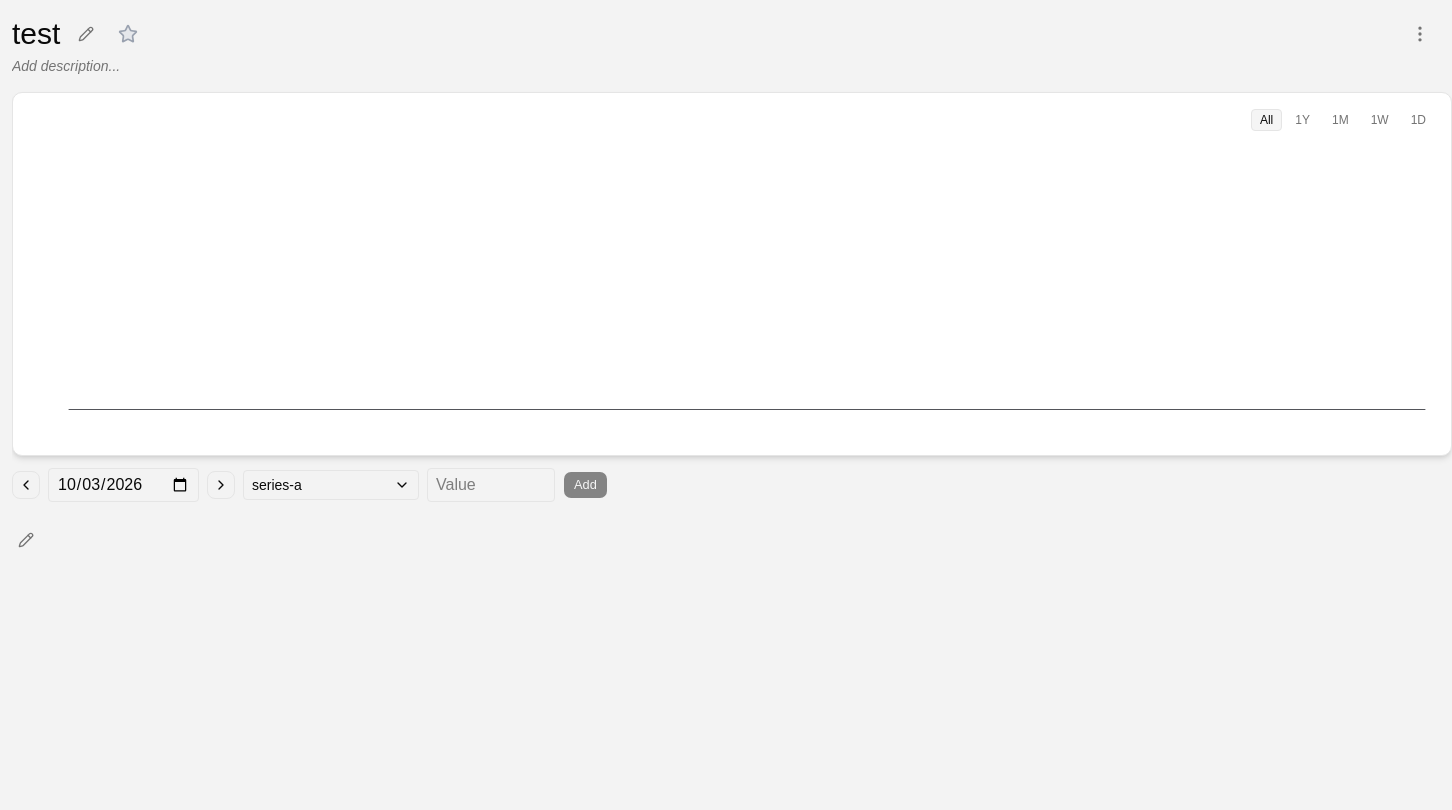
Test: TrackerDetailView › renames a series from the series settings panel
Click the button named "tracker menu" at (1420, 34), box [1404,18,1436,50]
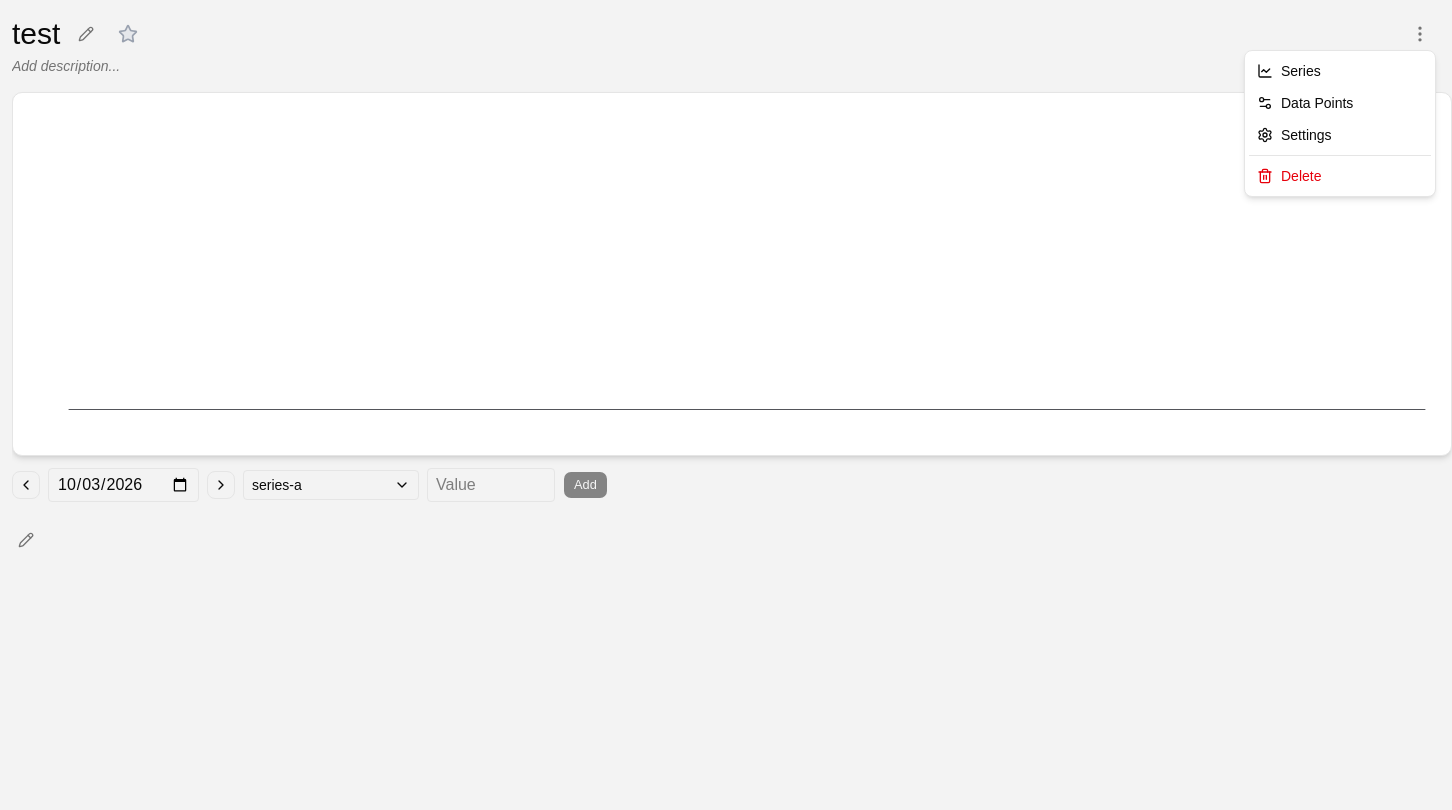
Click the menu item "Series" at (1289, 71), box [1257,63,1321,79]
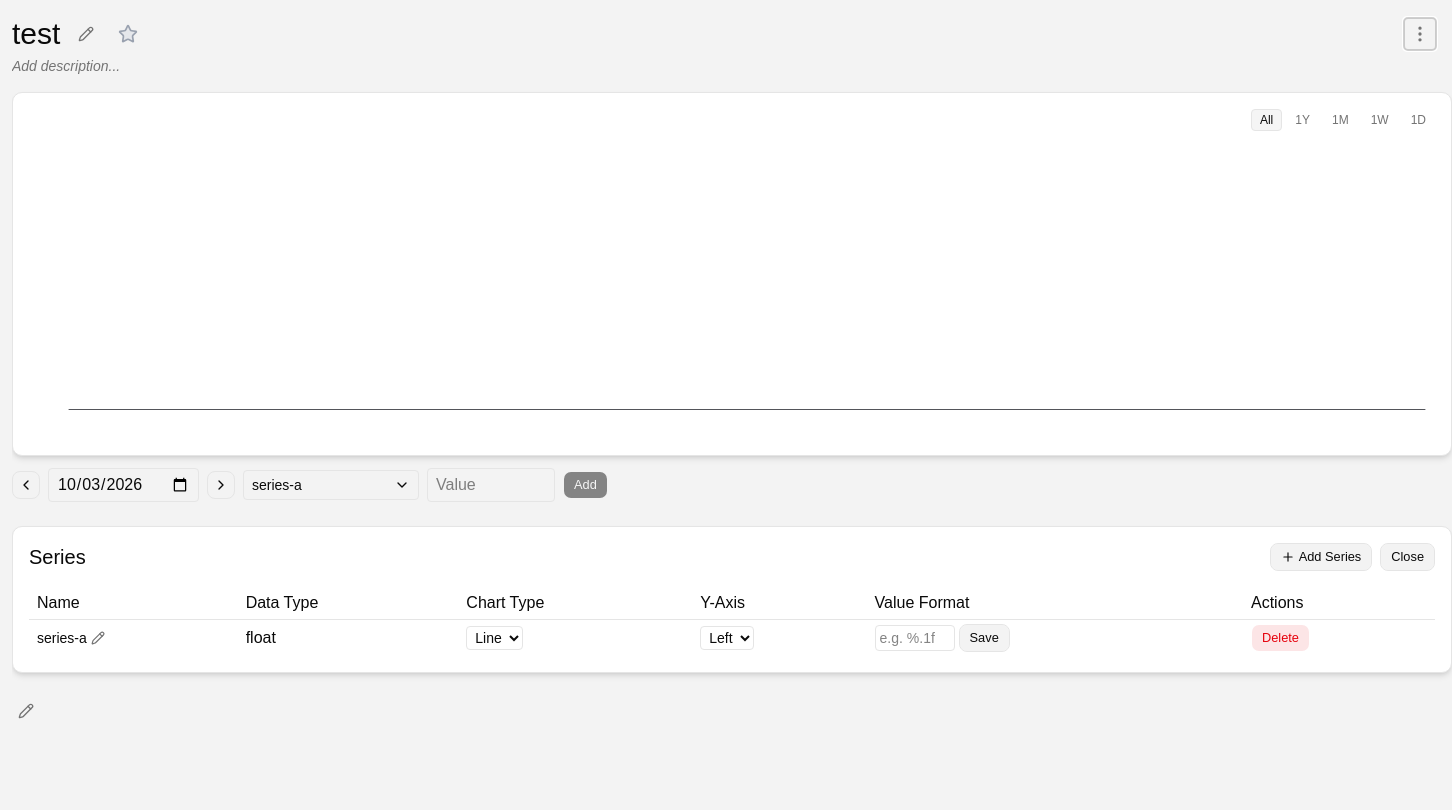
Click the button named "rename series series-a" at (98, 638), box [91,630,105,644]
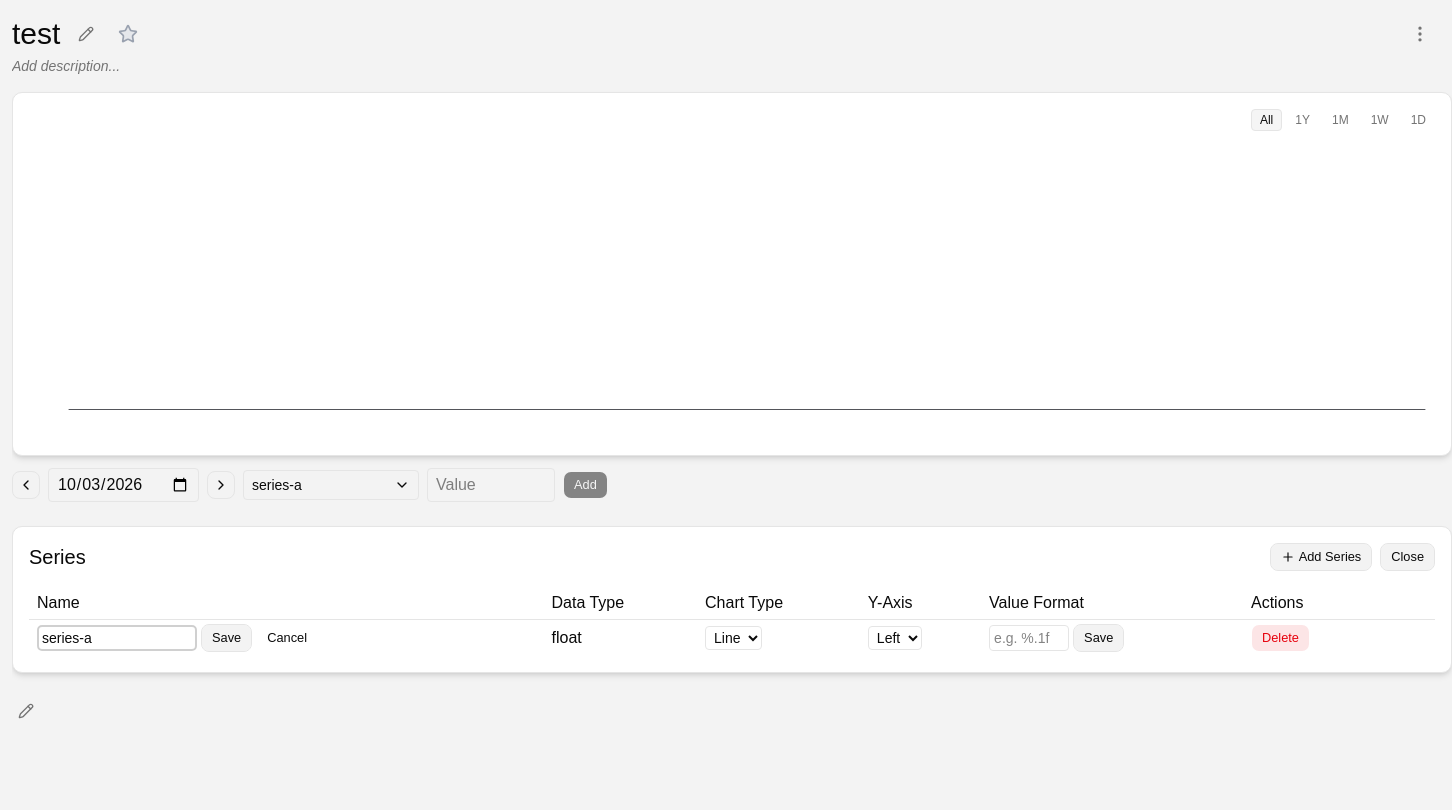
Replace the text in the field named "rename series series-a" with "series-a-renamed" at (117, 638), box [37,624,197,650]
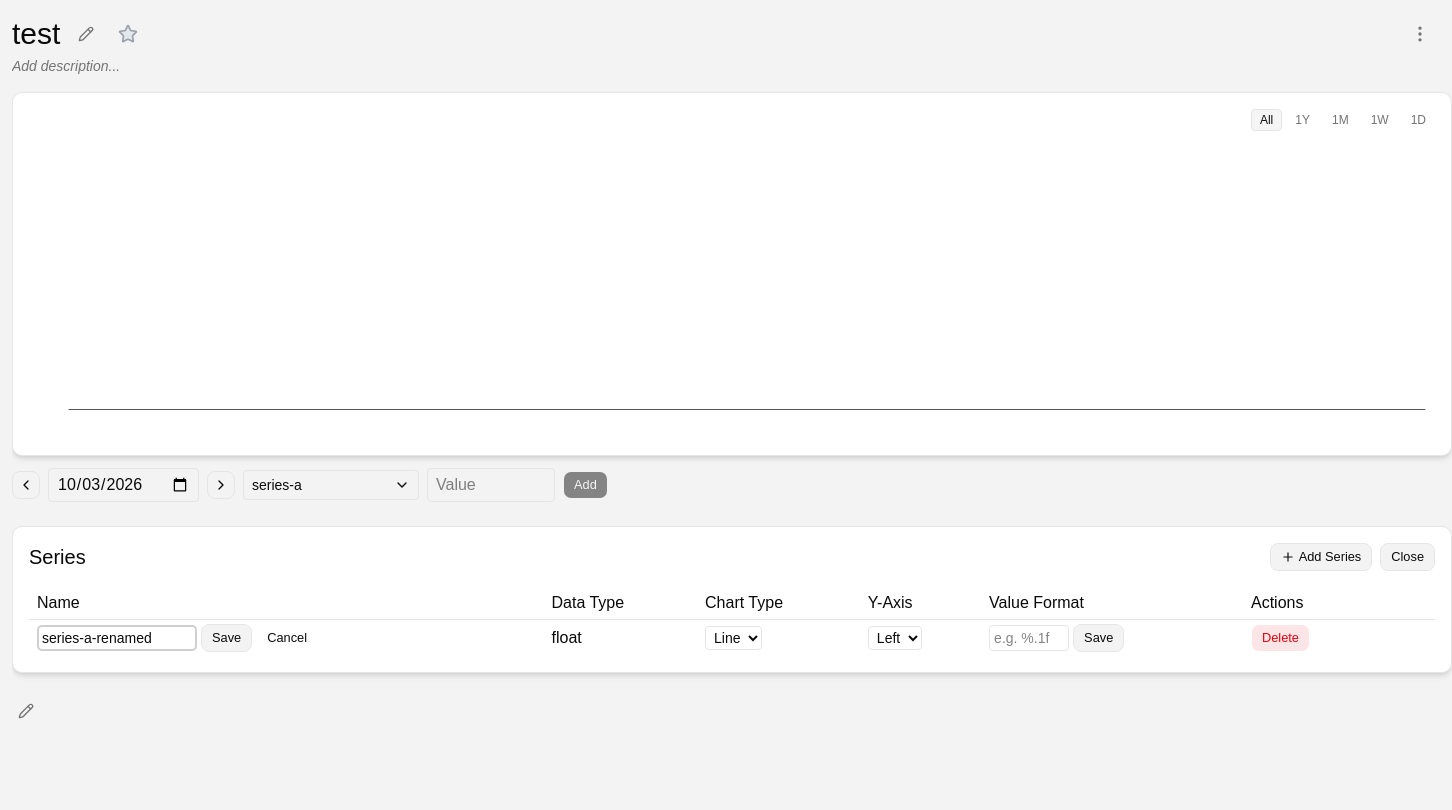
Click the 1st button "Save" at (227, 638), box [201,624,252,652]
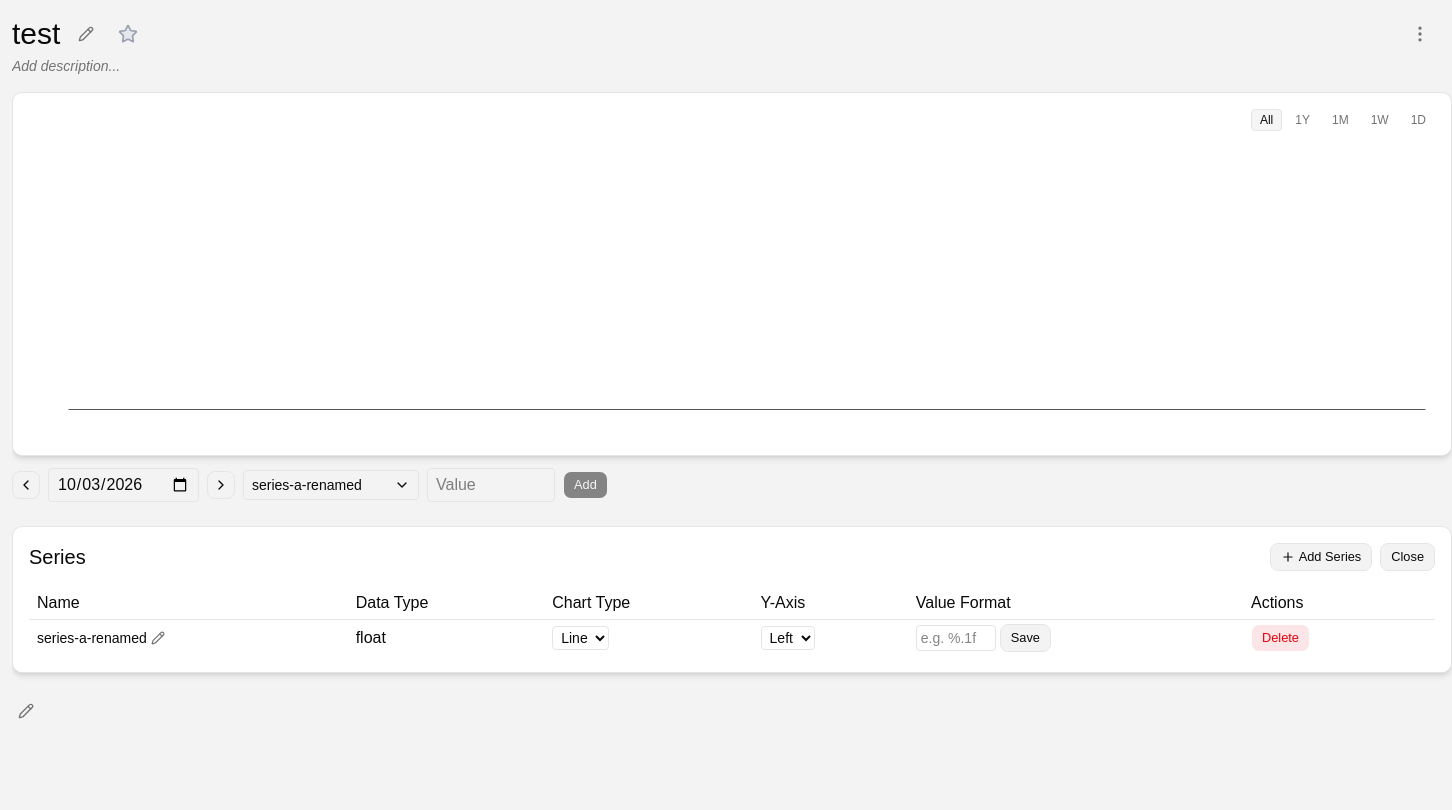
Check: the 1st text "series-a-renamed" is shown, box [252,475,362,495]
Check: the text "series-a-renamed" in the row of "float" is shown, box [37,630,147,646]
